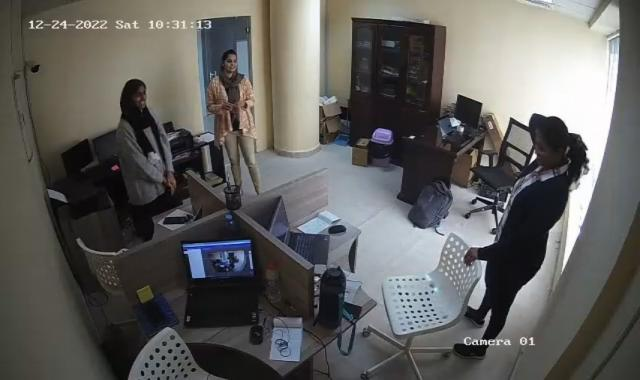no_hairnet: (531, 118, 571, 164), (124, 77, 146, 110), (222, 50, 237, 76)
